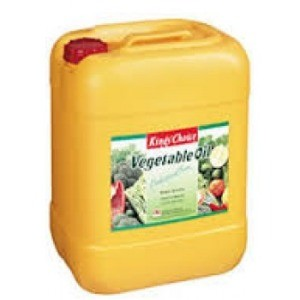vegetable oil_brain food: (60, 61, 229, 282)
